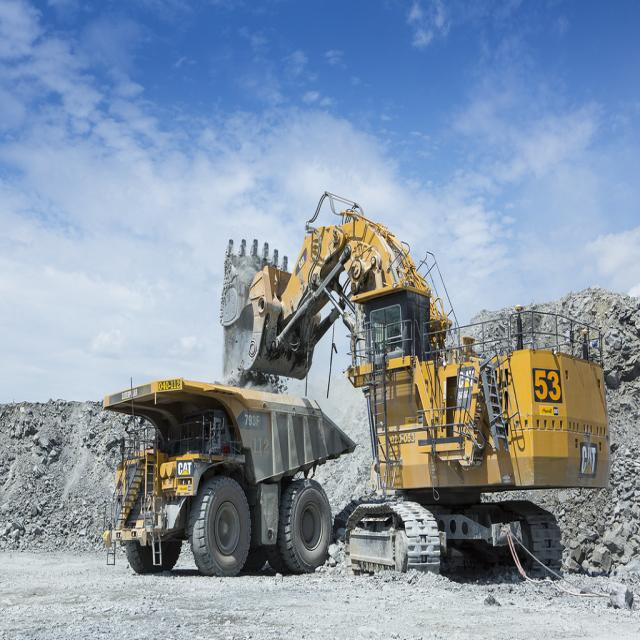dump_truck: (103, 376, 355, 572)
excavator: (219, 200, 614, 588)
